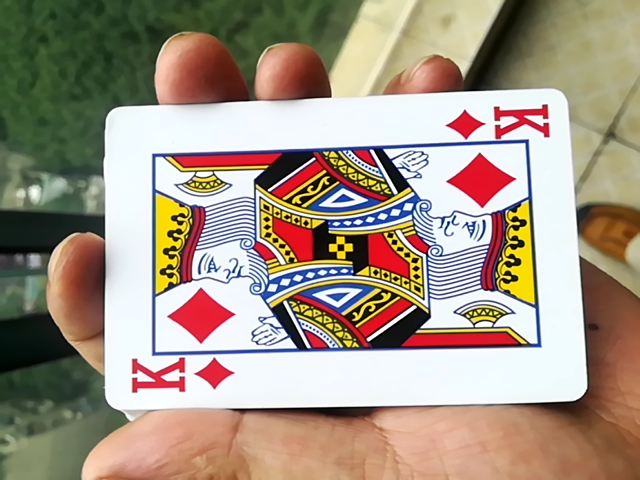fk k: (94, 97, 583, 416)
